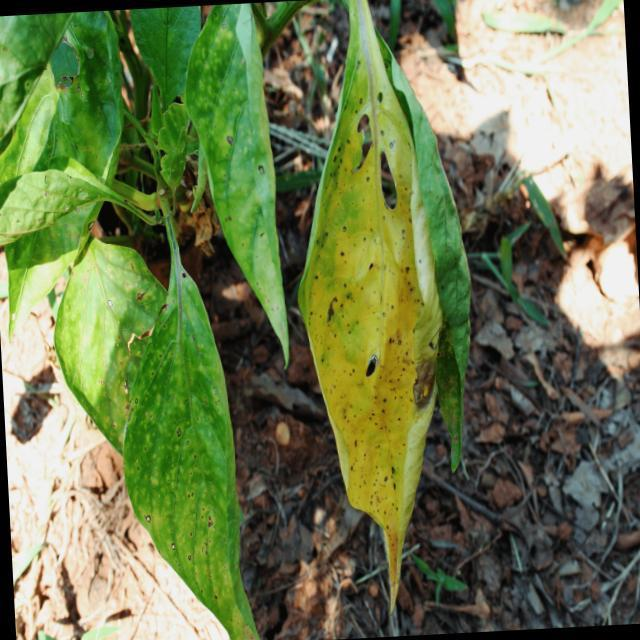Bacterial Spot: (328, 98, 416, 516), (156, 347, 228, 576), (217, 96, 270, 260)
